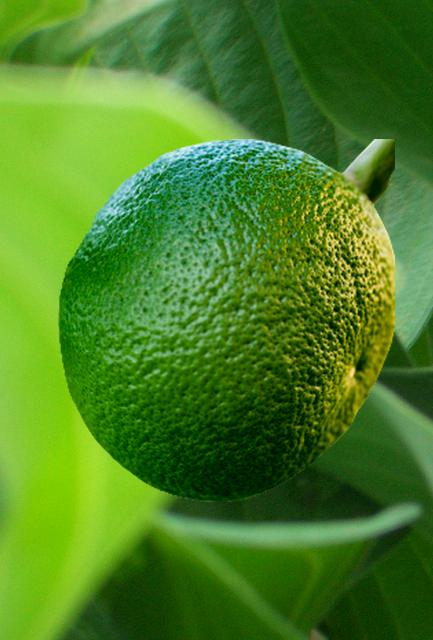dalandan: (58, 139, 393, 500)
